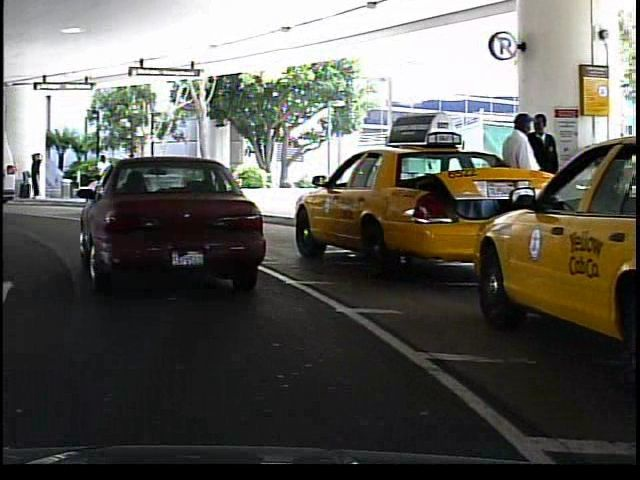person: (497, 109, 542, 250), (525, 109, 567, 245), (89, 150, 114, 196), (25, 144, 43, 202)
